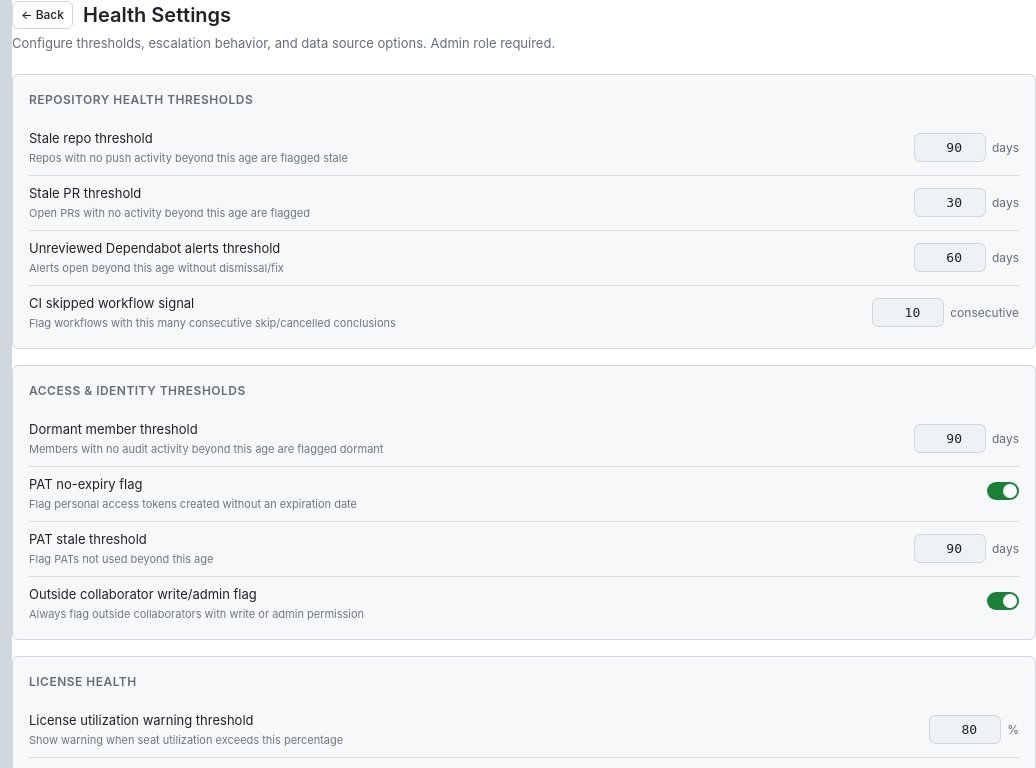
Test: HealthSettingsPage › resets all values to defaults and shows toast
Replace the text in the number field named "Stale repo threshold in days" with "200": (950, 148) [914,133,986,162]
(page scrolled)
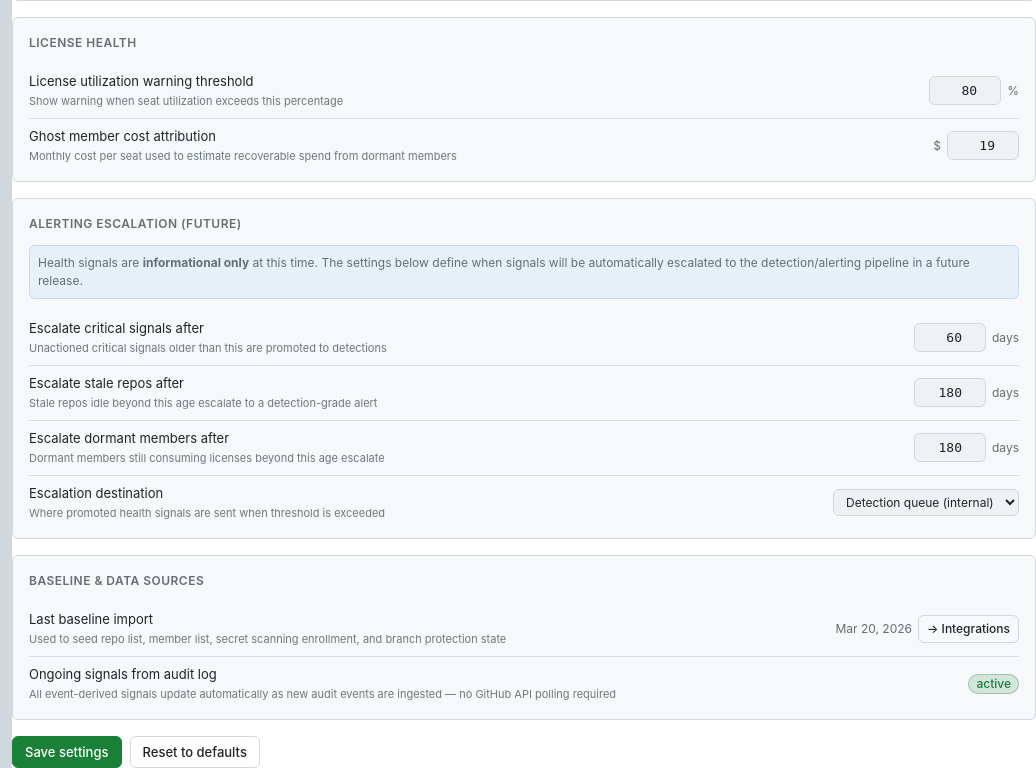
Click the button "Reset to defaults": (195, 752) [130,736,260,767]
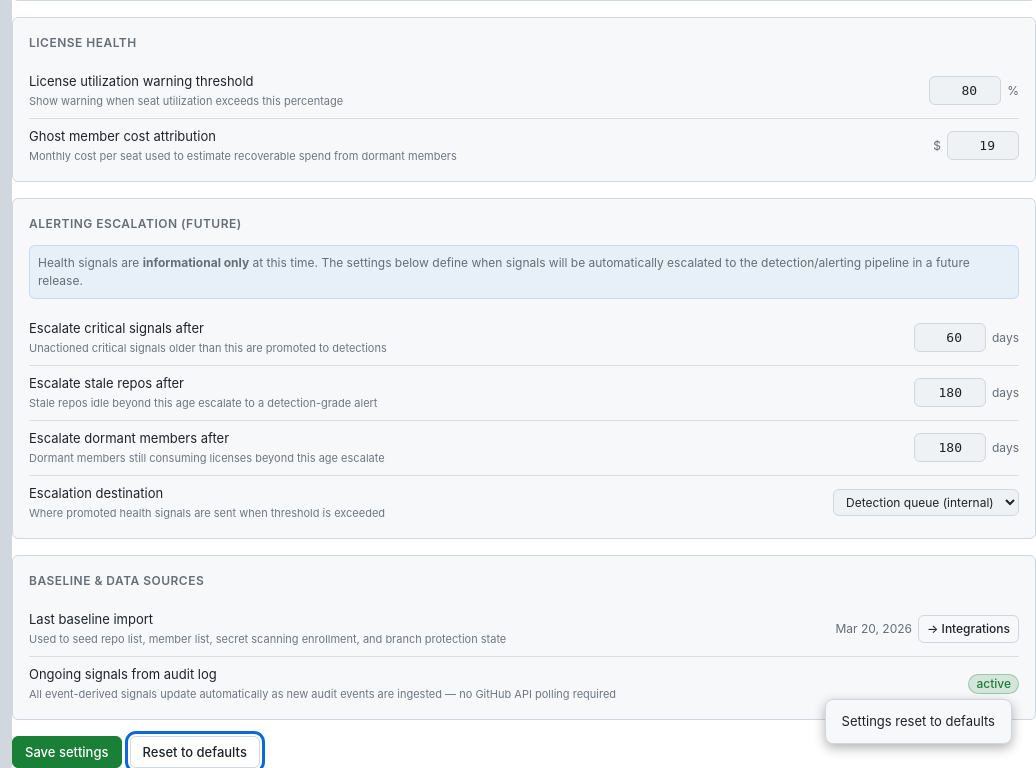
Check: the message reads "Settings reset to defaults", box [842,712,995,728]
